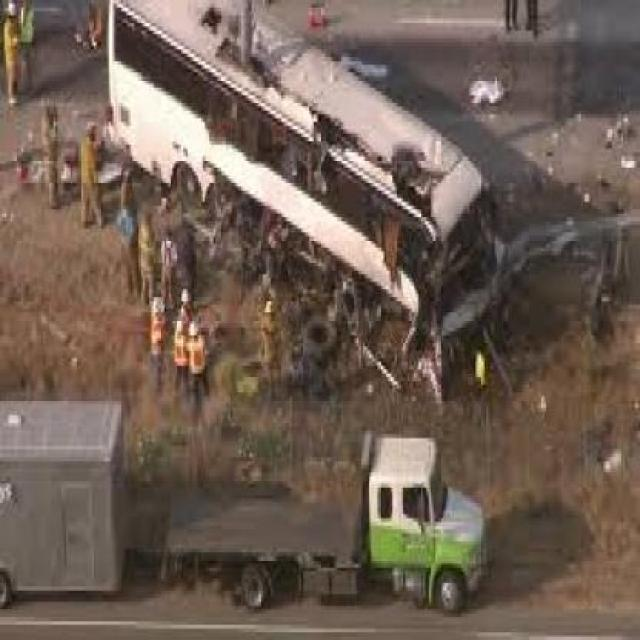accident: (105, 12, 508, 390)
